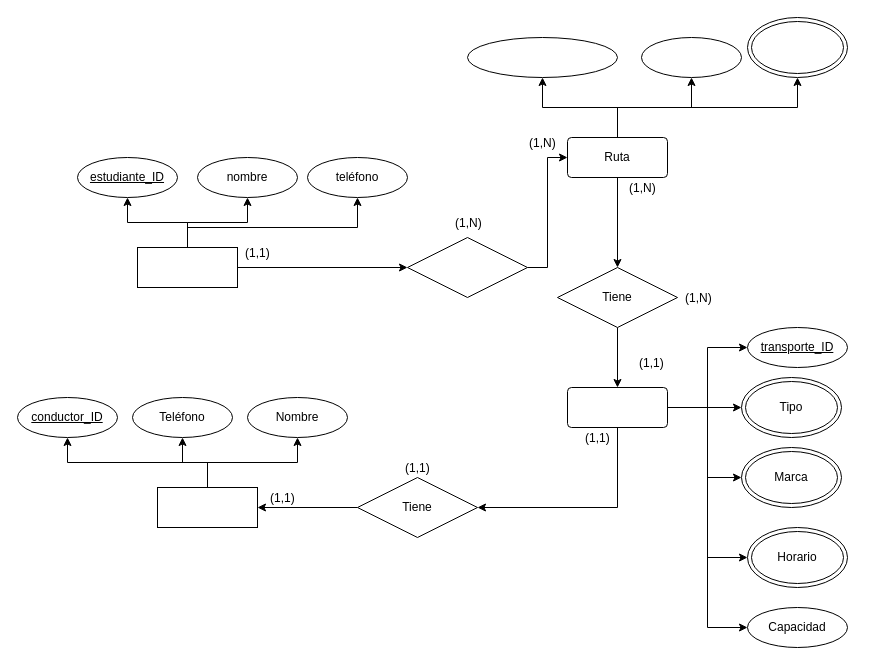
Some shapes in this 895 by 665 pixel diagram are drawn without their labels. The shapes that lost their labels are listed below. From the top down, each one's centre as x and y in pixels, then its label:
point 542,57: Tiempo_estimado_ruta
point 691,57: ruta_ID
point 797,47: Direccion_ruta
point 187,267: estudiante
point 467,267: busca
point 617,407: Transporte
point 207,507: Conductor
